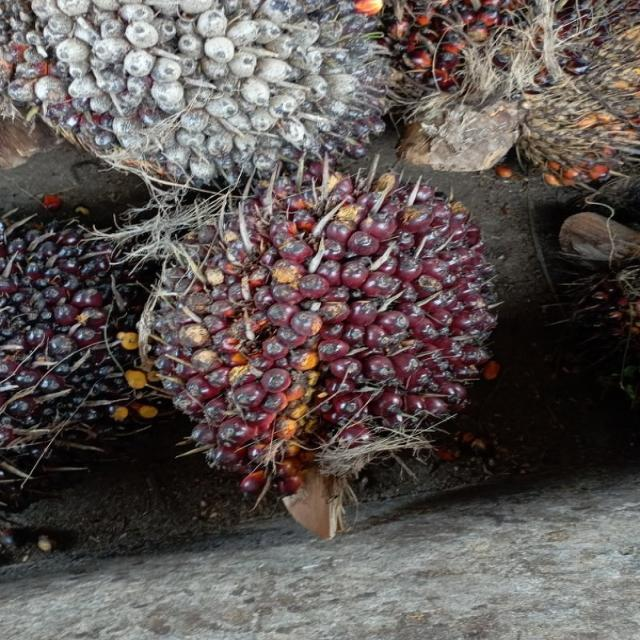fraksi 1: (122, 132, 533, 512)
